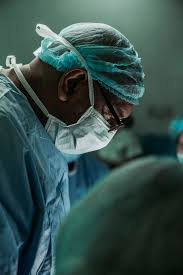masked: (4, 9, 149, 155)
